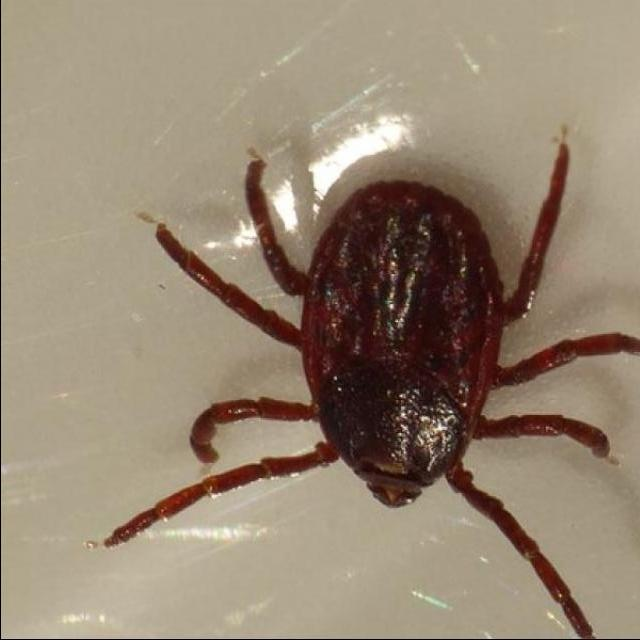Rhipicephalus Sanguineus-F: (97, 141, 640, 640)
